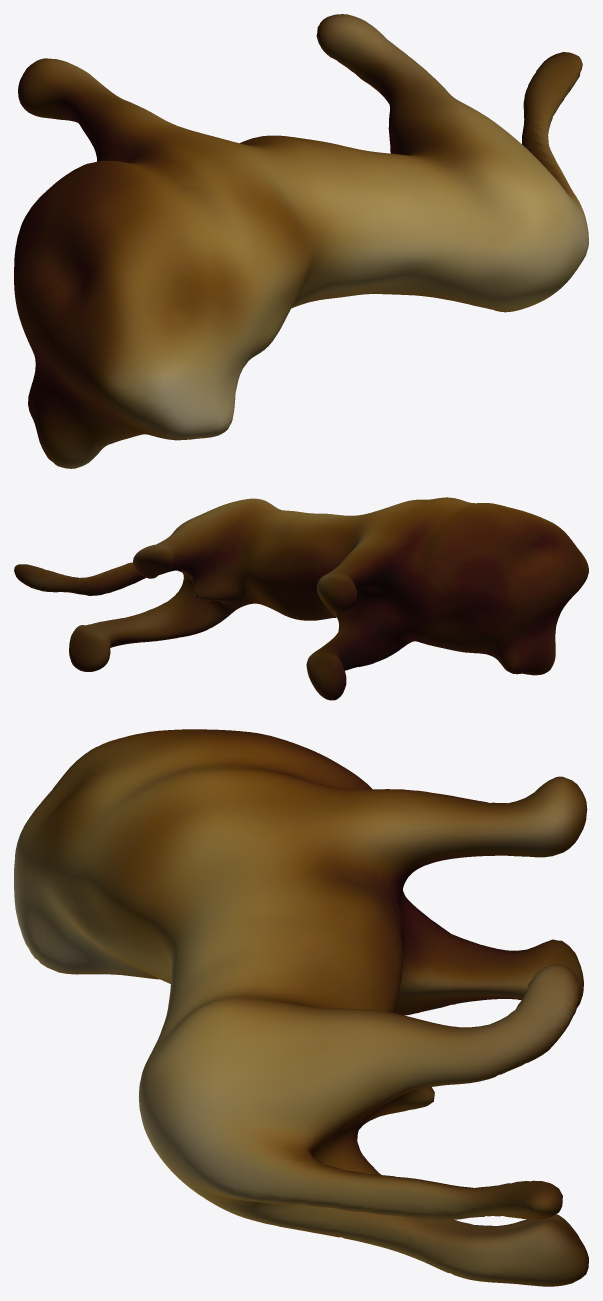
The model's file is lion.glb.
3 renders of one model, top to bottom at view 1: azimuth 30°, elevation 25°; view 2: azimuth 150°, elevation 25°; view 3: azimuth 270°, elevation 25°, orthographic. The views are drawn at different scales.
Bounding box in the file's own units: 0.999 × 0.3466 × 0.6262.
